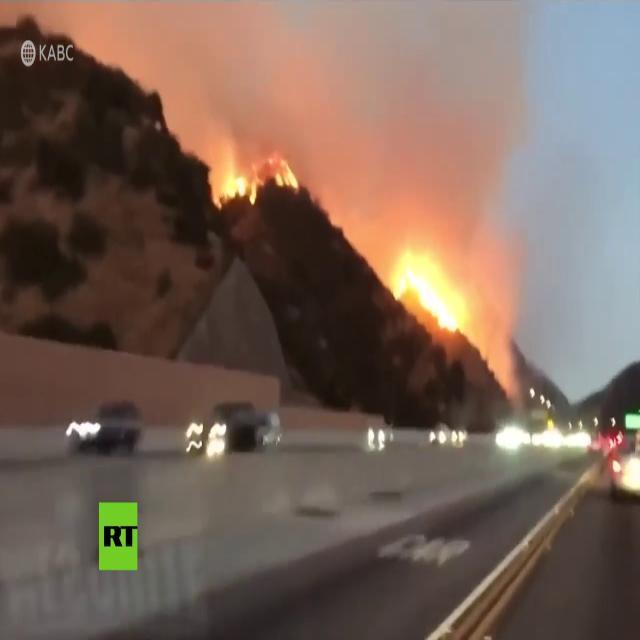Fire: (218, 156, 287, 202), (392, 256, 428, 302), (431, 284, 463, 334)
